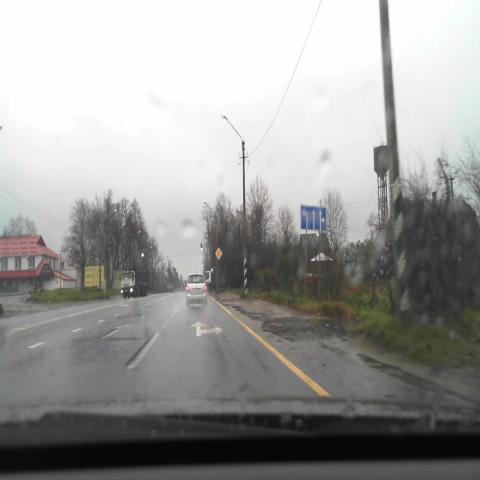5_15_1: (301, 206, 326, 232)
